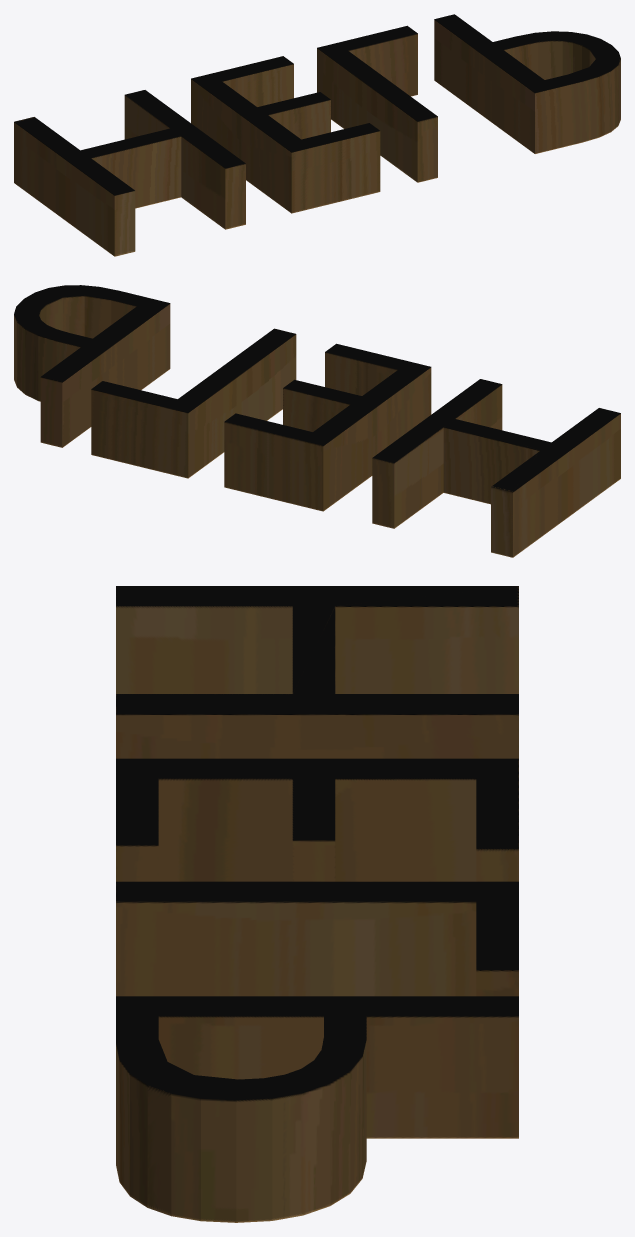
Rendered from help.obj.
The picture shows the model from 3 angles, top to bottom: view 1: azimuth 30°, elevation 25°; view 2: azimuth 150°, elevation 25°; view 3: azimuth 270°, elevation 25°; orthographic projection. The views are drawn at different scales.
Parts seen in each view (by area): view 1: Object.4, Object.3, Object.1, Object.2; view 2: Object.4, Object.3, Object.1, Object.2; view 3: Object.1, Object.4, Object.3, Object.2.
Part boxes in pixels (x1,y1,x2,y2): Object.4: [14, 90, 245, 256]; Object.3: [191, 56, 380, 213]; Object.1: [434, 14, 620, 153]; Object.2: [317, 25, 437, 182]; Object.4: [372, 379, 620, 557]; Object.3: [224, 343, 431, 511]; Object.1: [14, 285, 170, 447]; Object.2: [91, 328, 296, 478]; Object.1: [116, 996, 518, 1222]; Object.4: [116, 586, 518, 758]; Object.3: [116, 758, 518, 881]; Object.2: [116, 881, 518, 996].
Size of the model in its own units: 24.06 by 2.67 by 7.97.
Materials: 1 (1 with a texture image).
